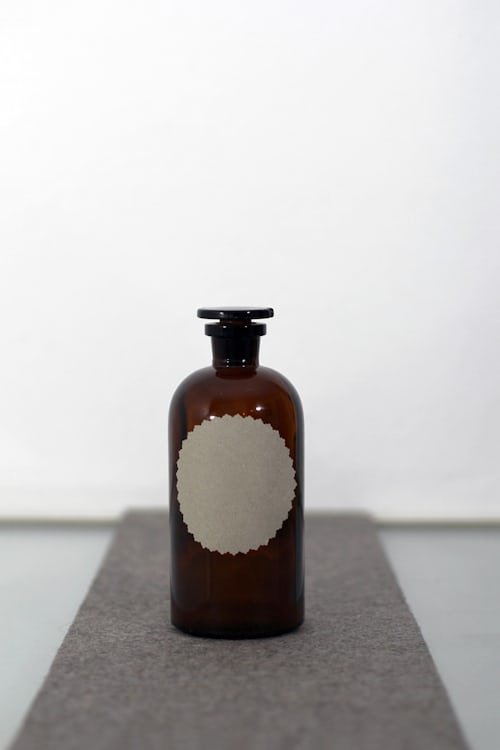Bottle: (140, 296, 332, 651)
